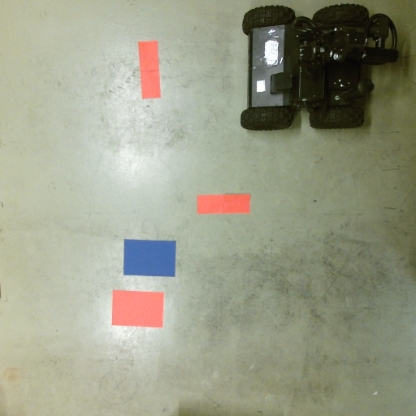Blue: (122, 237, 177, 279)
Jaguar: (238, 3, 401, 132)
Red: (109, 289, 166, 329), (136, 39, 163, 100), (194, 193, 252, 216)
